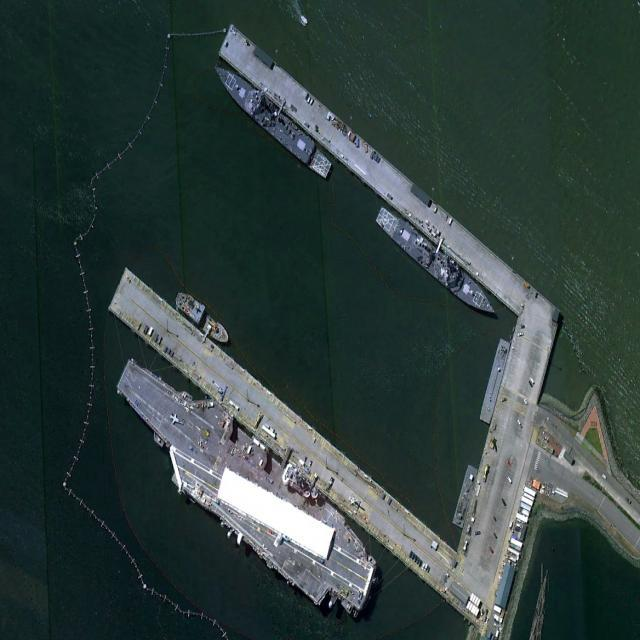Aircraft Carrier: (101, 336, 388, 633)
Destroyer: (210, 57, 334, 180), (375, 202, 499, 324)
Other Ship: (173, 287, 233, 347)
